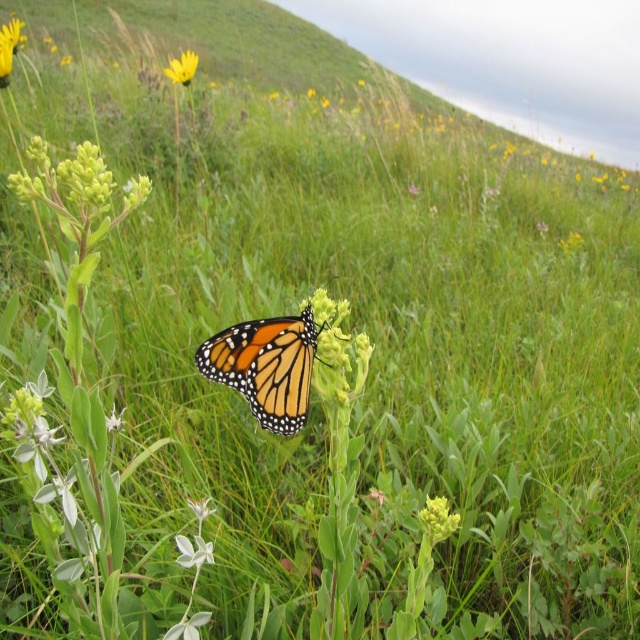Butterfly: (194, 274, 350, 435)
